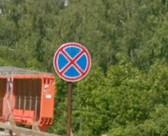No Parking: (54, 43, 92, 83)
